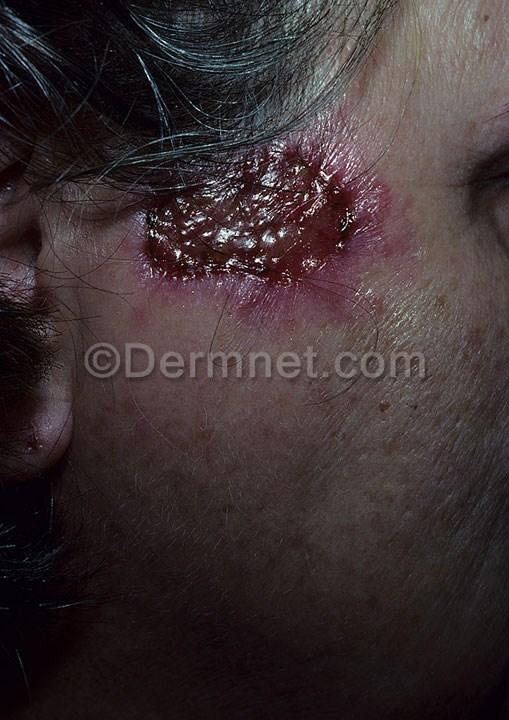Eczema: (143, 99, 373, 308)
